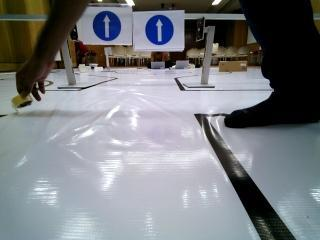straight: (130, 10, 182, 51), (79, 3, 131, 42)
